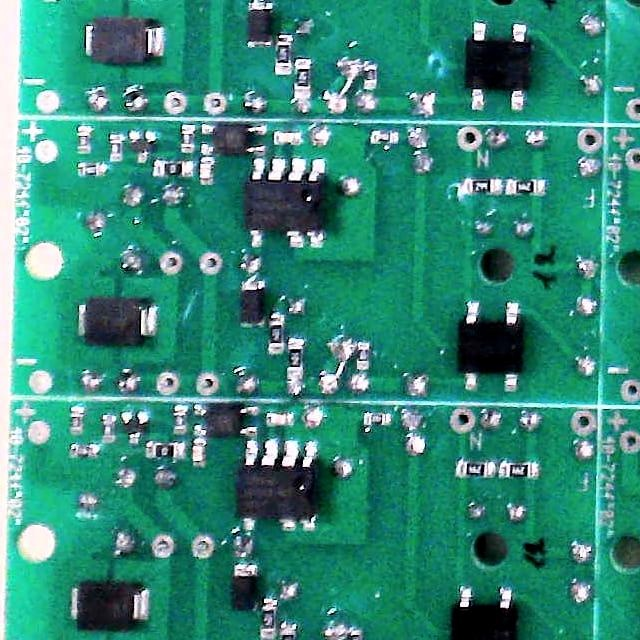chip-capacitor: (274, 132, 303, 145), (200, 158, 213, 184), (267, 413, 292, 425), (192, 443, 203, 466)
chip-resistor: (274, 33, 293, 75), (294, 58, 311, 98), (506, 179, 545, 196), (287, 338, 304, 376), (154, 160, 191, 176), (146, 443, 185, 458), (466, 179, 502, 195), (269, 318, 284, 354), (499, 463, 535, 477), (261, 605, 276, 637), (458, 462, 491, 476), (77, 162, 107, 176), (370, 130, 399, 144), (77, 126, 92, 153), (363, 64, 378, 91), (109, 133, 123, 161), (102, 416, 116, 443), (357, 342, 370, 369), (71, 444, 98, 457), (181, 126, 194, 152), (70, 407, 83, 433), (174, 406, 186, 433), (364, 413, 389, 425)
diode: (83, 17, 167, 67), (78, 296, 160, 346), (71, 583, 152, 631), (246, 1, 273, 48), (234, 564, 257, 611), (241, 282, 265, 327)
ic: (244, 156, 326, 248), (237, 440, 319, 530), (458, 301, 525, 391), (464, 23, 531, 111), (451, 585, 518, 640), (194, 404, 259, 438), (200, 124, 267, 156)
transistor: (121, 411, 148, 446), (129, 130, 157, 163)
